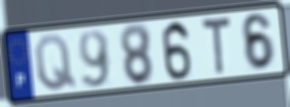6: (239, 11, 278, 73), (160, 19, 193, 82)
8: (119, 21, 155, 88)
9: (78, 29, 113, 89)
Q: (32, 32, 78, 93)
T: (200, 14, 233, 78)
